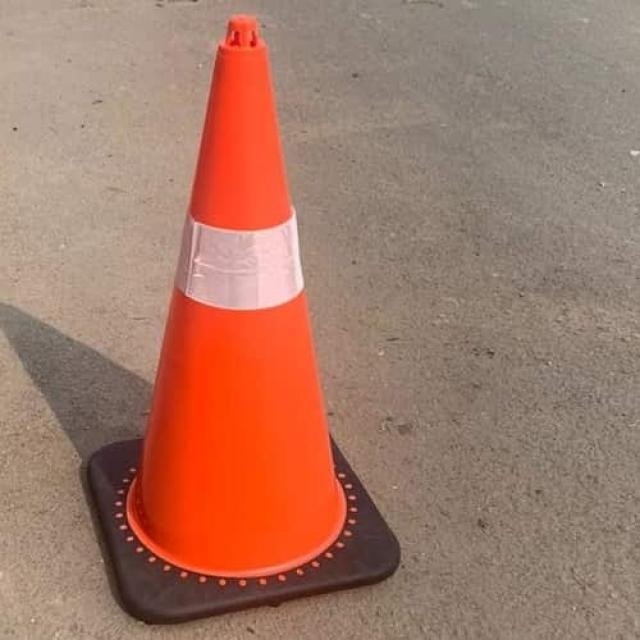Traffic Cone: (60, 0, 415, 631)
